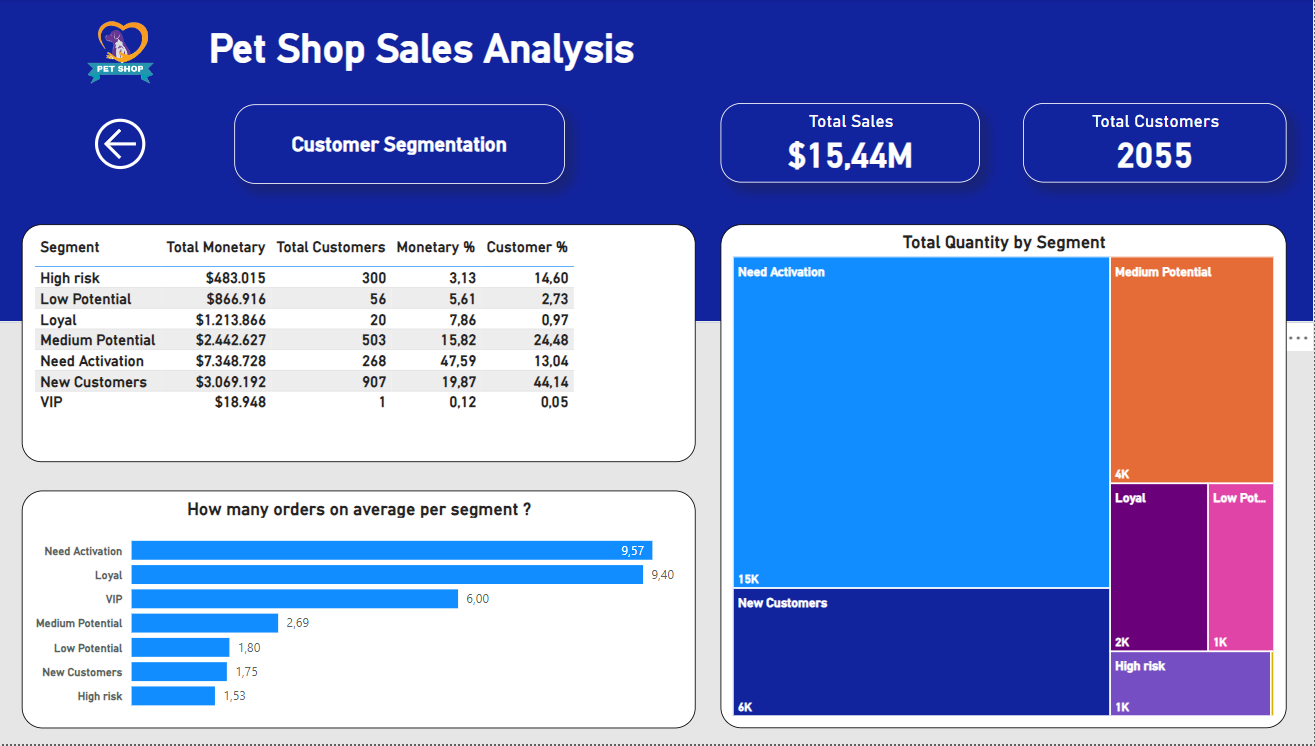

The page's visual inventory and layout, read from the dashboard file:
{"tool":"powerbi","page":{"name":"Overview","canvas":[1280,720],"ordinal":0},"visuals":[{"type":"textbox","box":[9.7,0,1270.4,312.5],"z":0},{"type":"textbox","box":[196.6,20.3,443.9,59.6],"z":1000},{"type":"image","box":[63.9,0,132.7,102.5],"z":2000},{"type":"actionButton","box":[237.3,102.3,318.8,77.1],"z":12000},{"type":"actionButton","box":[96.8,109.2,67,62.1],"z":13000},{"type":"tableEx","fields":{"Values":["fact_sales.cc_rfm_segment","Sum(fact_sales.Sales)","fact_sales.Customer ID","Measures_Table.monetary_percent","Measures_Table.customer_percent"]},"box":[32.6,218.4,650.3,229.2],"z":14000},{"type":"card","title":"Total Sales","fields":{"Values":["Sum(fact_sales.Sales)"]},"box":[707.5,101.8,250.7,77],"z":15000},{"type":"card","title":"Total Customers","fields":{"Values":["Count(fact_sales.Customer ID)"]},"box":[999.2,101.8,254.5,77],"z":16000},{"type":"barChart","title":"How many orders on average per segment ?","fields":{"Category":["fact_sales.cc_rfm_segment"],"Y":["Avg(fact_sales.cc_frequency)"]},"box":[32.6,475.3,650.3,229.2],"z":17000},{"type":"treemap","title":"Total Quantity by Segment","fields":{"Group":["fact_sales.cc_rfm_segment"],"Values":["Sum(fact_sales.Quantity)"]},"box":[707.5,218.5,546.2,486.6],"z":18000}]}

Visuals, with their boxes in screenshot pixels (x1, y1, x2, y2), scaled from the page's 1280x720 canvas onto the 1315x746 screenshot:
textbox: box(10, 0, 1314, 324)
textbox: box(202, 21, 658, 83)
image: box(66, 0, 202, 106)
actionButton: box(244, 106, 571, 186)
actionButton: box(99, 113, 168, 177)
tableEx - fact_sales.cc_rfm_segment x Sum(fact_sales.Sales): box(33, 226, 702, 464)
"Total Sales" card: box(727, 105, 984, 185)
"Total Customers" card: box(1027, 105, 1288, 185)
"How many orders on average per segment ?" barChart: box(33, 492, 702, 730)
"Total Quantity by Segment" treemap: box(727, 226, 1288, 731)
